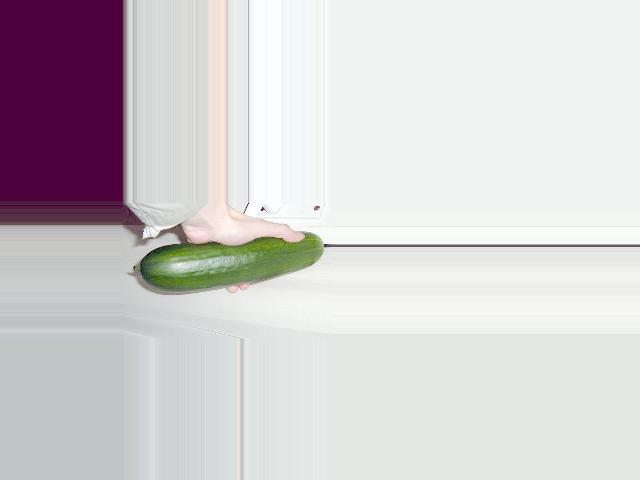cucumber: (133, 232, 324, 295)
